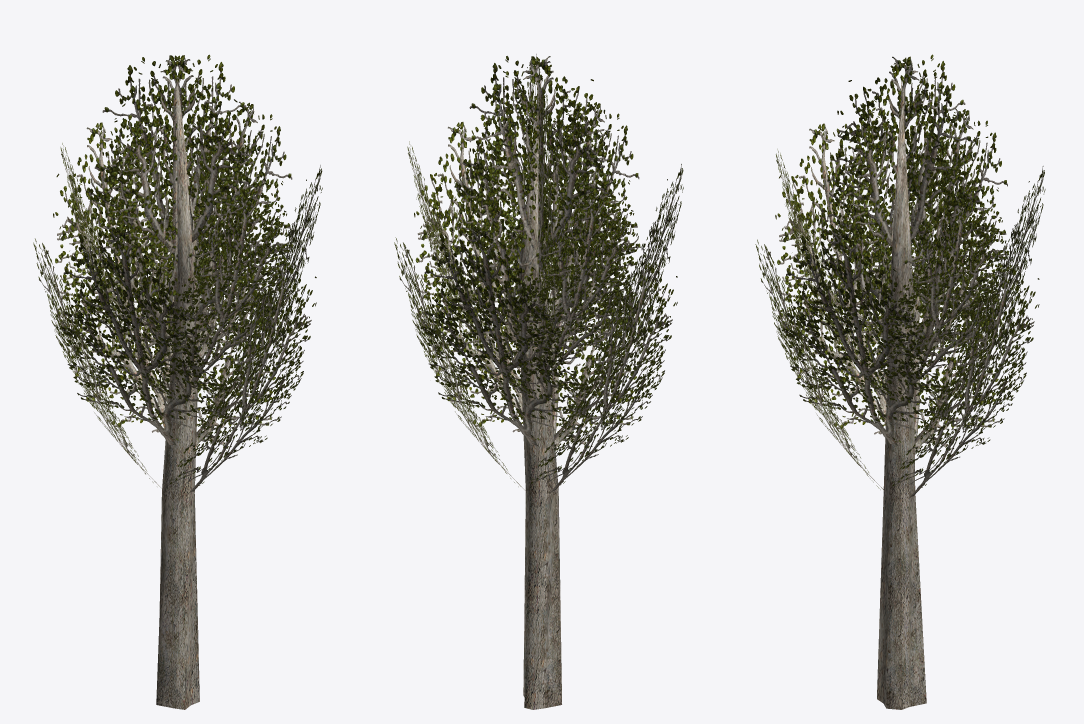
File: Sharp_Poplar06.gltf
3 renders of one model, left to right at view 1: azimuth 30°, elevation 25°; view 2: azimuth 150°, elevation 25°; view 3: azimuth 270°, elevation 25°, orthographic.
Visible parts, largest first — view 1: Top, aa, Afol, Trunk, C; view 2: Top, aa, Afol, C, Trunk; view 3: aa, Top, Afol, Trunk, C.
Part boxes in pixels (bbox=[...]): Top: bbox=[85, 54, 266, 382]; aa: bbox=[53, 122, 322, 445]; Afol: bbox=[33, 165, 316, 492]; Trunk: bbox=[156, 78, 200, 709]; C: bbox=[60, 101, 293, 384]; Top: bbox=[454, 54, 621, 381]; aa: bbox=[414, 122, 683, 445]; Afol: bbox=[394, 165, 677, 493]; C: bbox=[407, 102, 640, 384]; Trunk: bbox=[517, 75, 561, 709]; aa: bbox=[775, 123, 1045, 445]; Top: bbox=[821, 54, 988, 362]; Afol: bbox=[755, 166, 1039, 498]; Trunk: bbox=[877, 81, 926, 709]; C: bbox=[776, 108, 1009, 395].
Size of the model in its own units: 11.18 by 23.67 by 11.08.
Materials: 2 (2 with a texture image).
